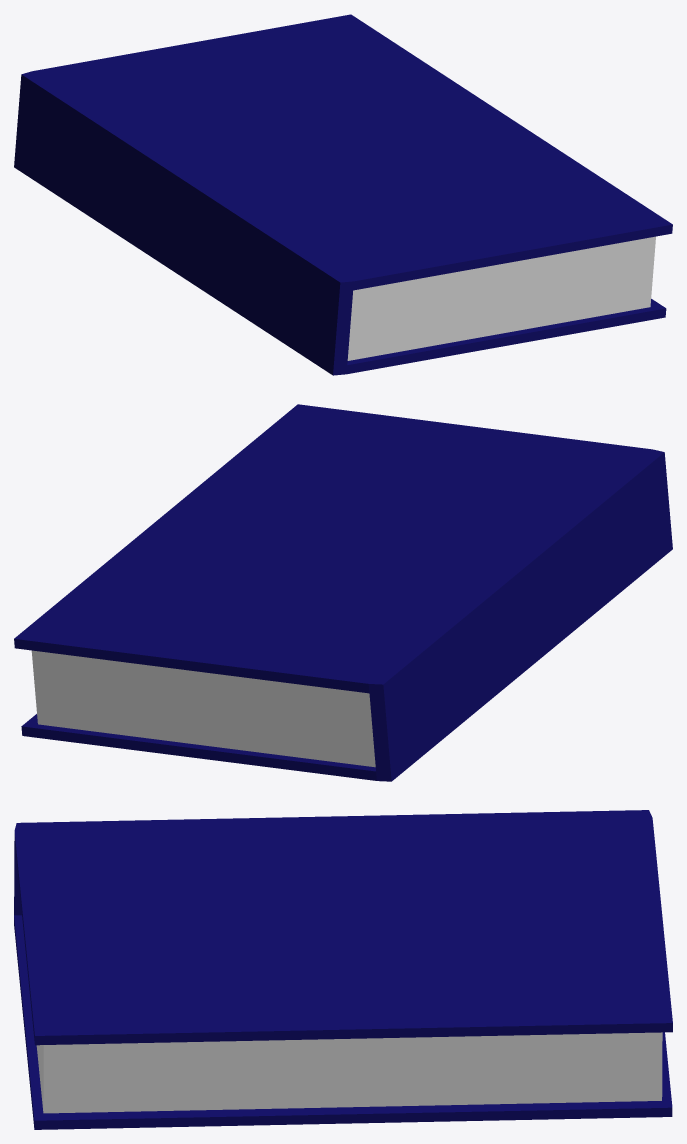
The model's file is book-inactive.glb.
The picture shows the model from 3 angles, top to bottom: view 1: azimuth 30°, elevation 25°; view 2: azimuth 150°, elevation 25°; view 3: azimuth 270°, elevation 25°; orthographic projection. The views are drawn at different scales.
Visible parts, largest first — view 1: book_closed; view 2: book_closed; view 3: book_closed.
Part boxes in pixels (x1,y1,x2,y2): book_closed: [14, 14, 672, 375]; book_closed: [14, 404, 672, 781]; book_closed: [14, 810, 672, 1129].
Size of the model in its own units: 0.5972 by 0.1872 by 0.8456.
